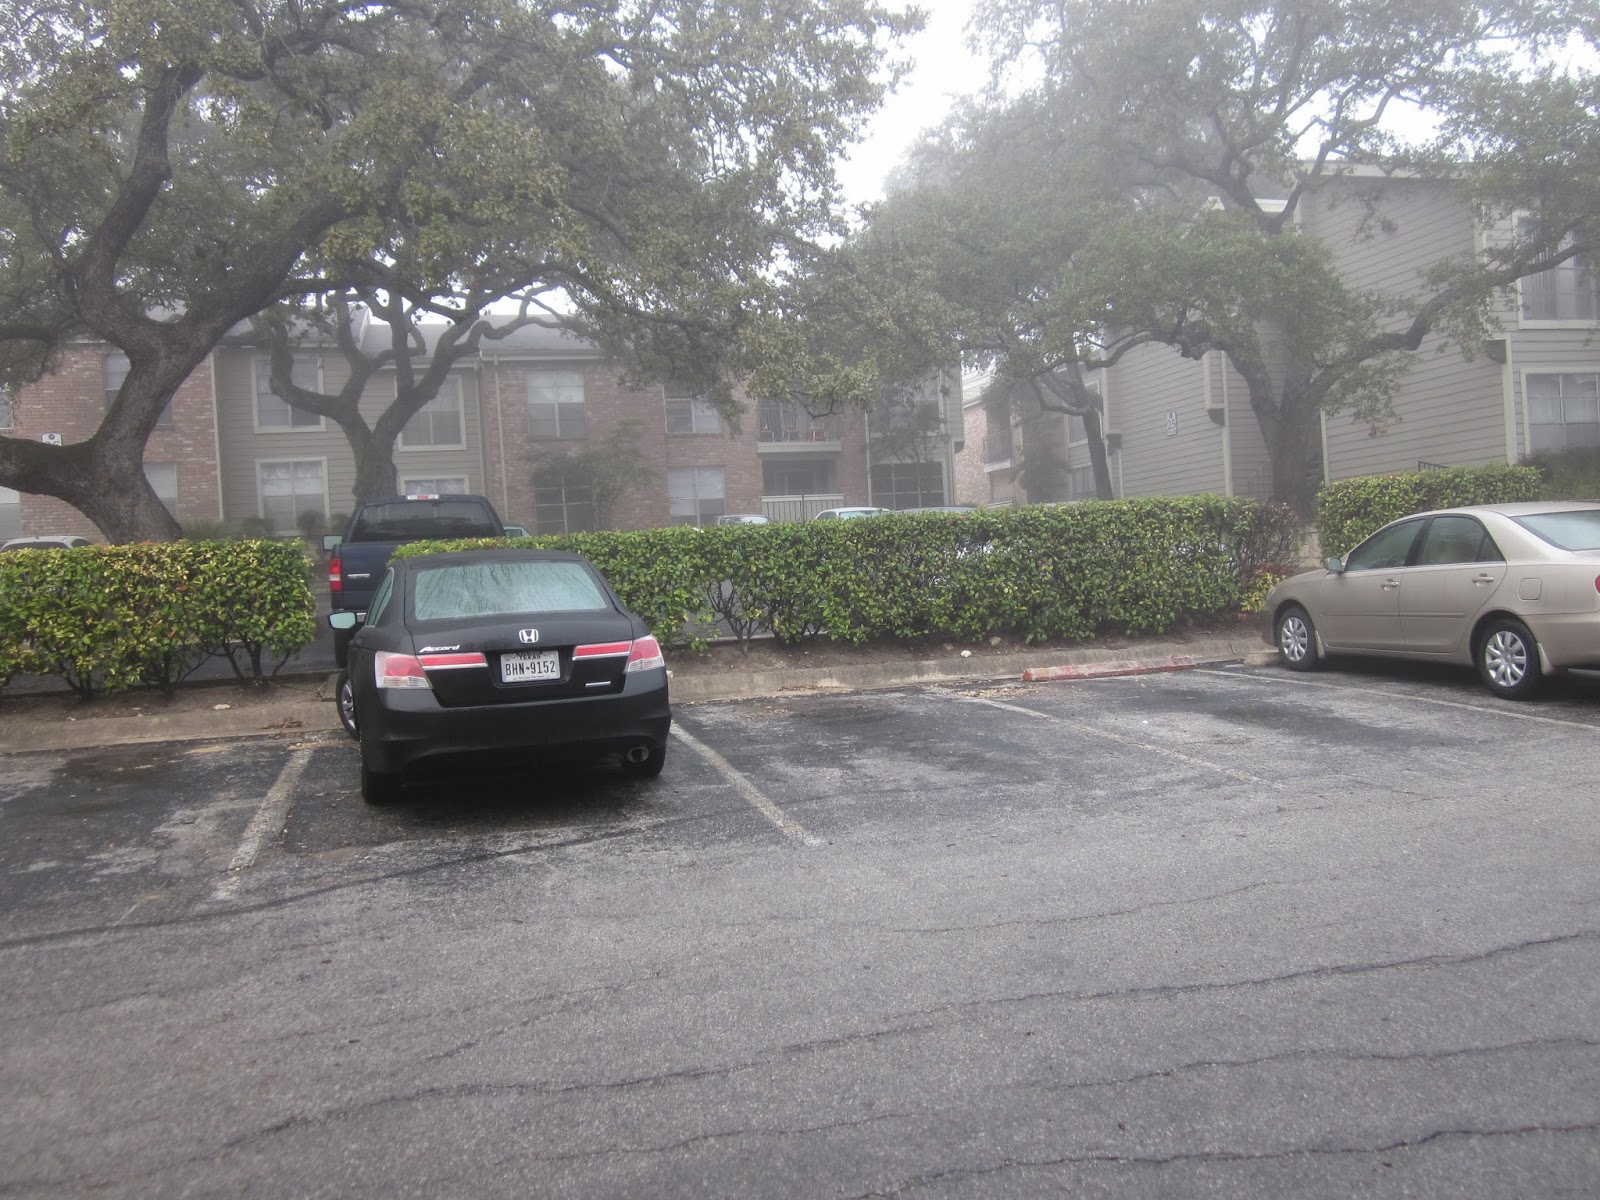empyt_space: (664, 666, 1294, 857), (918, 658, 1600, 797), (1, 724, 333, 895)
